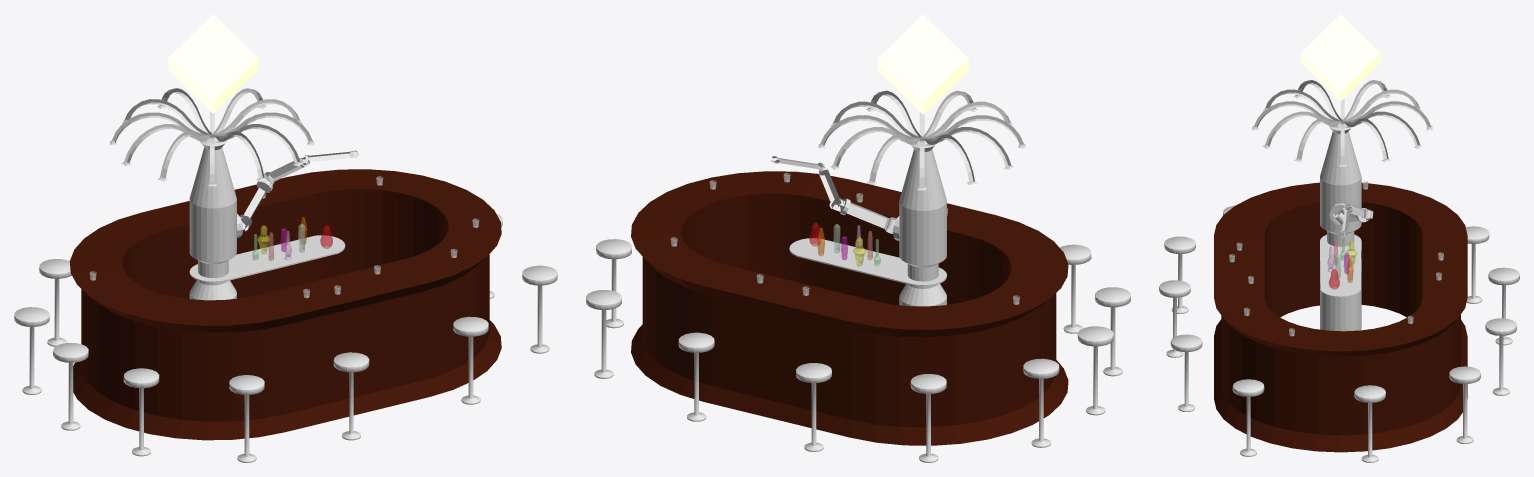
Rendered from bar.glb.
3 renders of one model, left to right at view 1: azimuth 30°, elevation 25°; view 2: azimuth 150°, elevation 25°; view 3: azimuth 270°, elevation 25°, orthographic. The views are drawn at different scales.
Parts seen in each view (by area): view 1: bar, shelves2, cubelight, stool.004, stool.003, stool.011, stool, stool.010, stool.002, stool.001, stool.009, light2.011 (+3 smaller); view 2: bar, shelves2, cubelight, stool.008, stool.006, stool.002, stool.007, stool.011, stool.010, stool.009, stool.005, stool (+5 smaller); view 3: bar, shelves2, cubelight, stool.004, stool.007, stool.006, stool.003, stool.005, stool.001, stool, stool.009, stool.008 (+10 smaller).
Boxes of the visible parts, <box> form: bar: <box>69,169,501,440</box>; shelves2: <box>189,137,345,300</box>; cubelight: <box>168,14,258,113</box>; stool.004: <box>522,265,557,353</box>; stool.003: <box>453,316,488,404</box>; stool.011: <box>53,342,88,430</box>; stool: <box>229,375,264,462</box>; stool.010: <box>14,307,49,394</box>; stool.002: <box>123,368,159,456</box>; stool.001: <box>333,352,369,440</box>; stool.009: <box>39,259,71,346</box>; light2.011: <box>110,112,209,145</box>; bar: <box>631,171,1068,445</box>; shelves2: <box>789,140,946,306</box>; cubelight: <box>877,14,968,114</box>; stool.008: <box>796,363,831,451</box>; stool.006: <box>586,290,621,378</box>; stool.002: <box>1095,287,1130,376</box>; stool.007: <box>678,332,714,421</box>; stool.011: <box>1077,326,1113,415</box>; stool.010: <box>1023,358,1059,447</box>; stool.009: <box>910,374,946,462</box>; stool.005: <box>596,239,631,328</box>; stool: <box>1059,244,1091,333</box>; bar: <box>1214,182,1467,452</box>; shelves2: <box>1320,122,1361,331</box>; cubelight: <box>1301,14,1380,101</box>; stool.004: <box>1232,379,1264,456</box>; stool.007: <box>1485,318,1516,395</box>; stool.006: <box>1449,366,1480,443</box>; stool.003: <box>1170,334,1202,411</box>; stool.005: <box>1354,385,1385,462</box>; stool.001: <box>1159,280,1190,357</box>; stool: <box>1164,236,1195,313</box>; stool.009: <box>1465,226,1489,303</box>; stool.008: <box>1488,267,1519,345</box>.
Size of the model in its own units: 4.98 by 3.66 by 3.71.
